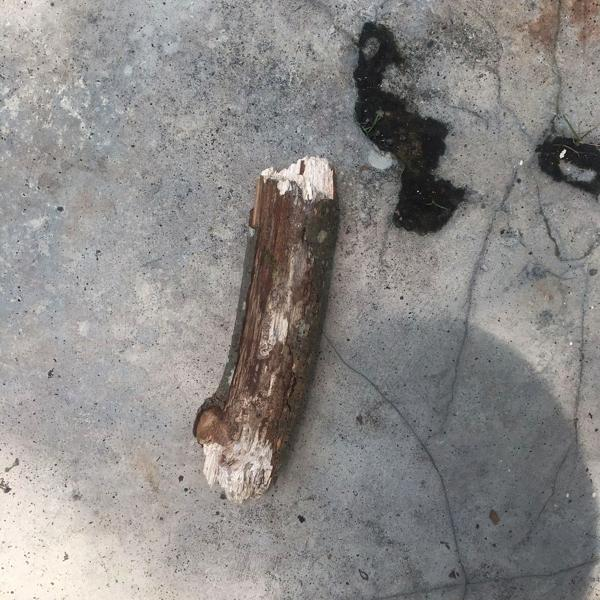Organik: (185, 142, 338, 510)
